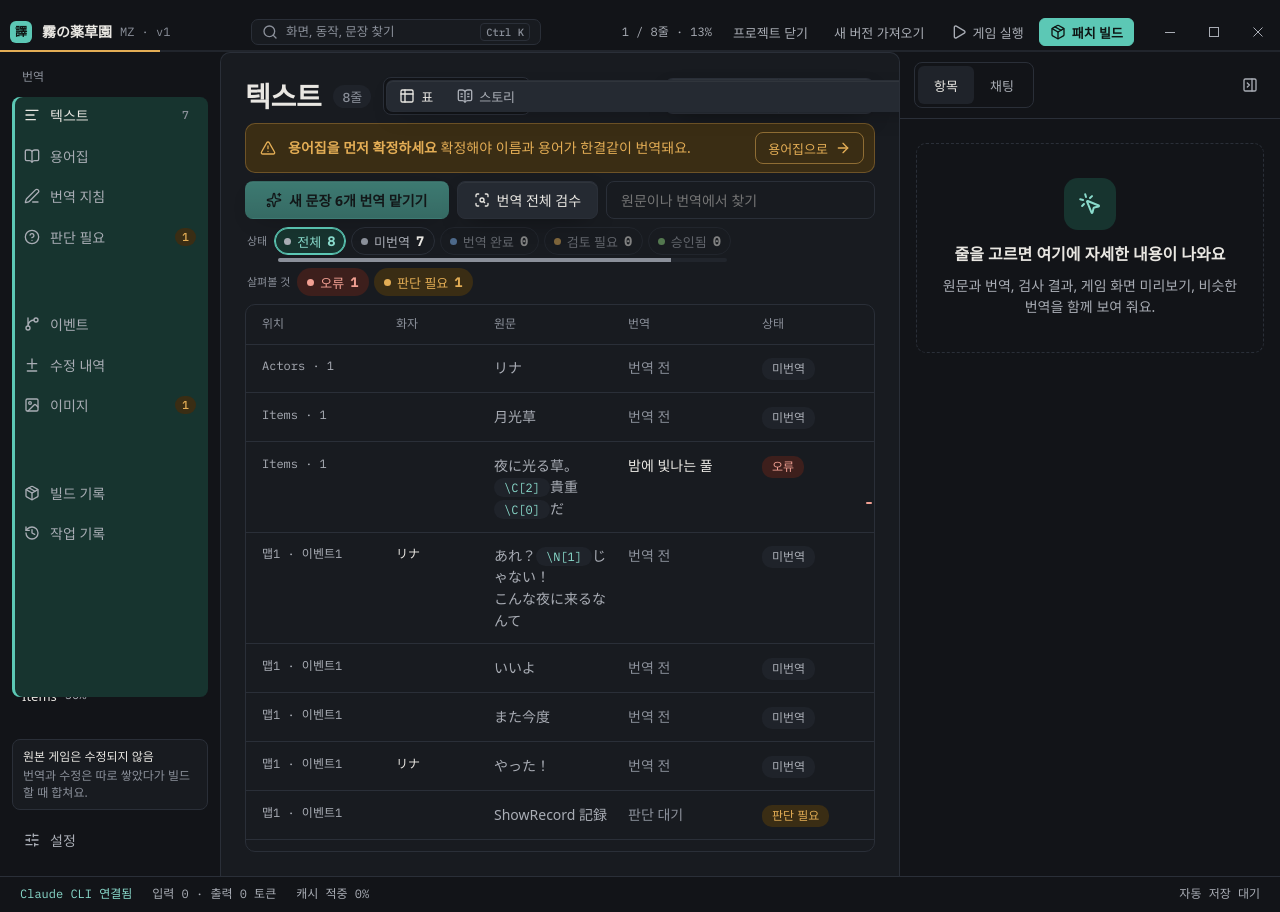
원본 위에서 끌면 그림 좌표로 바꾼 영역이 더해진다
This screenshot has width=1280, height=912.
Check: the text "霧の薬草園" is shown, box [42, 21, 112, 43]
Click the button "이미지 1" at (110, 405), box [12, 387, 208, 424]
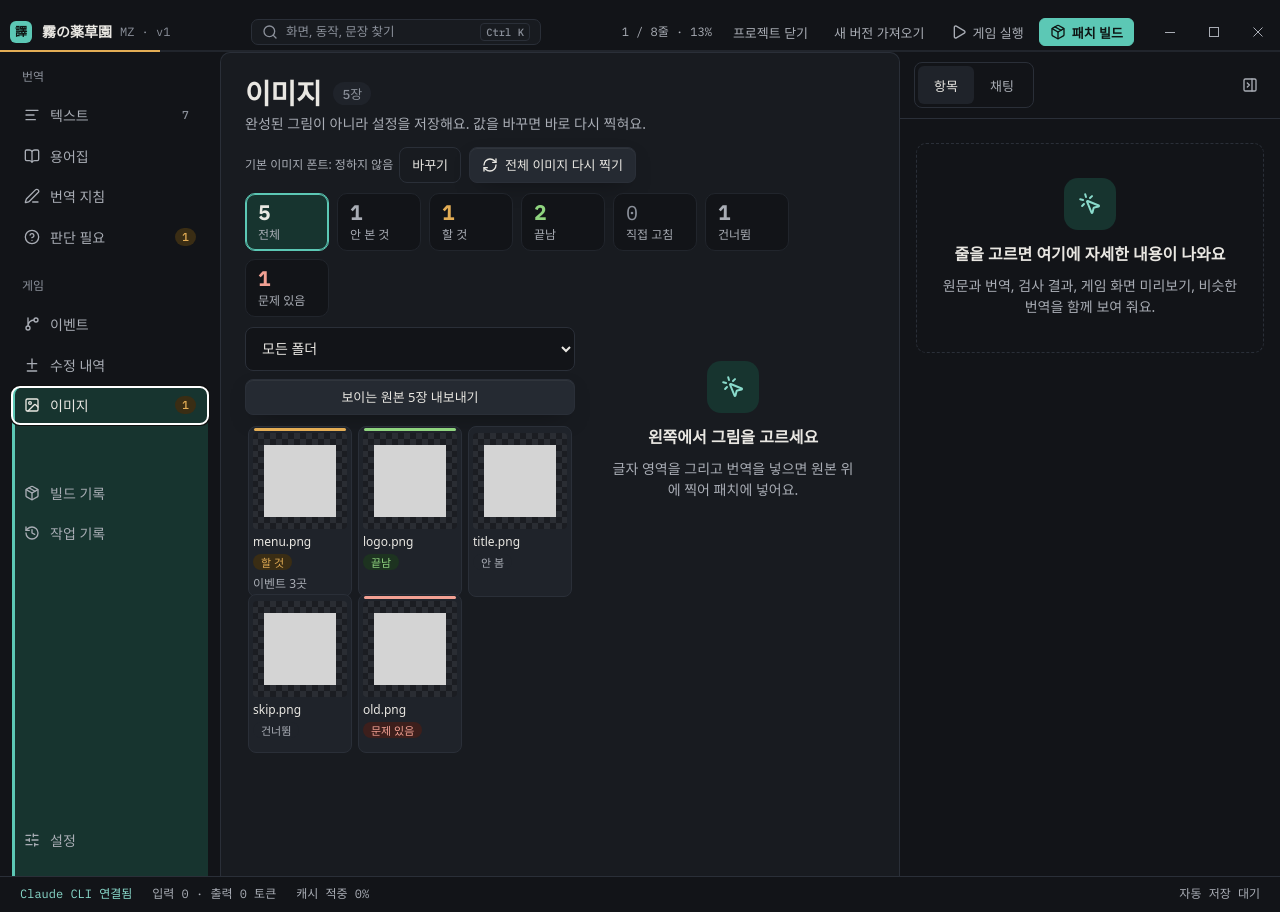
Check: the heading "이미지" is shown, box [245, 77, 322, 109]
Click the button "menu.png 할 것 이벤트 3곳" at (300, 511), box [248, 426, 352, 597]
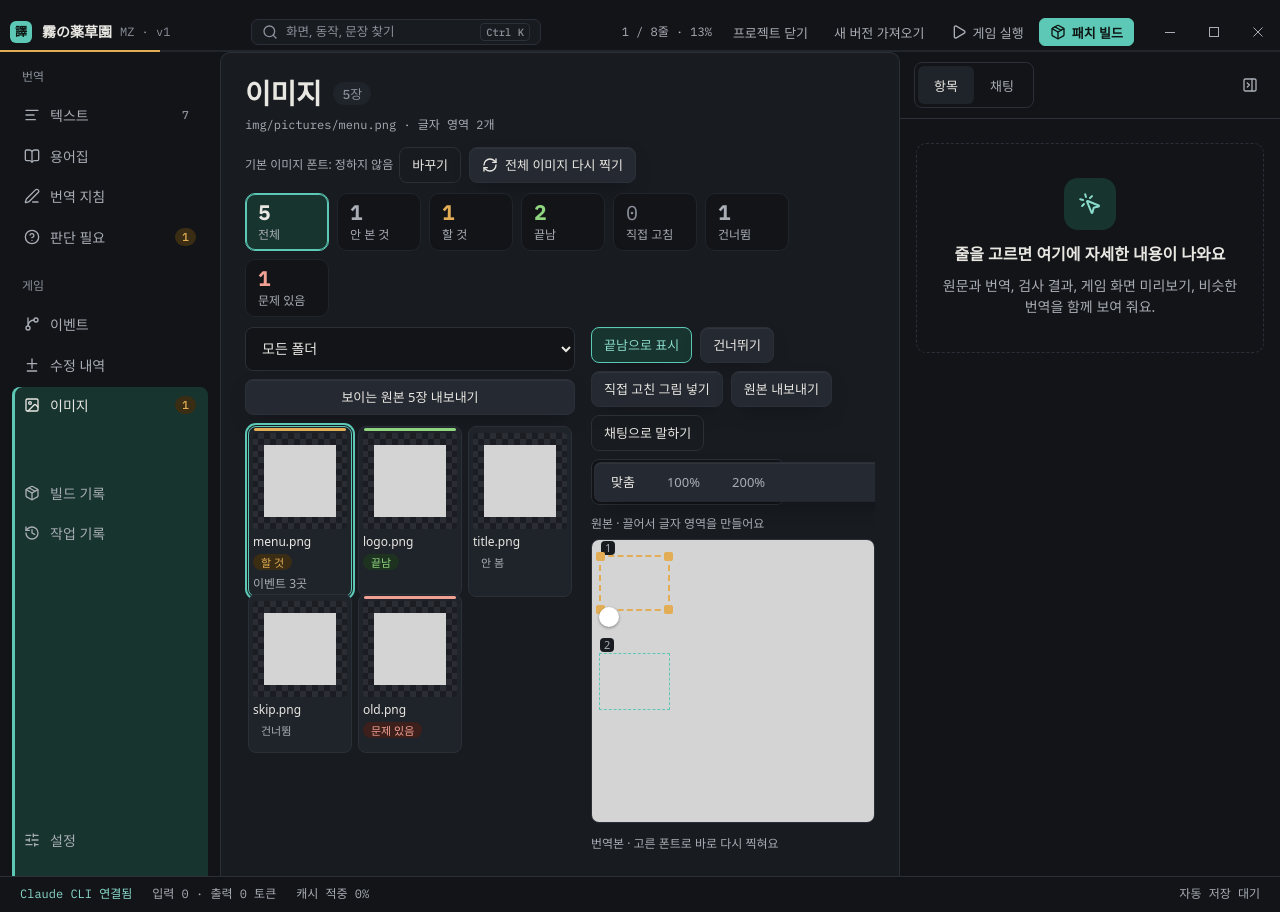
Press the mouse on the element named "원본 위에서 끌어 영역 만들기" at (634, 583), box [599, 555, 670, 710]
(page scrolled)
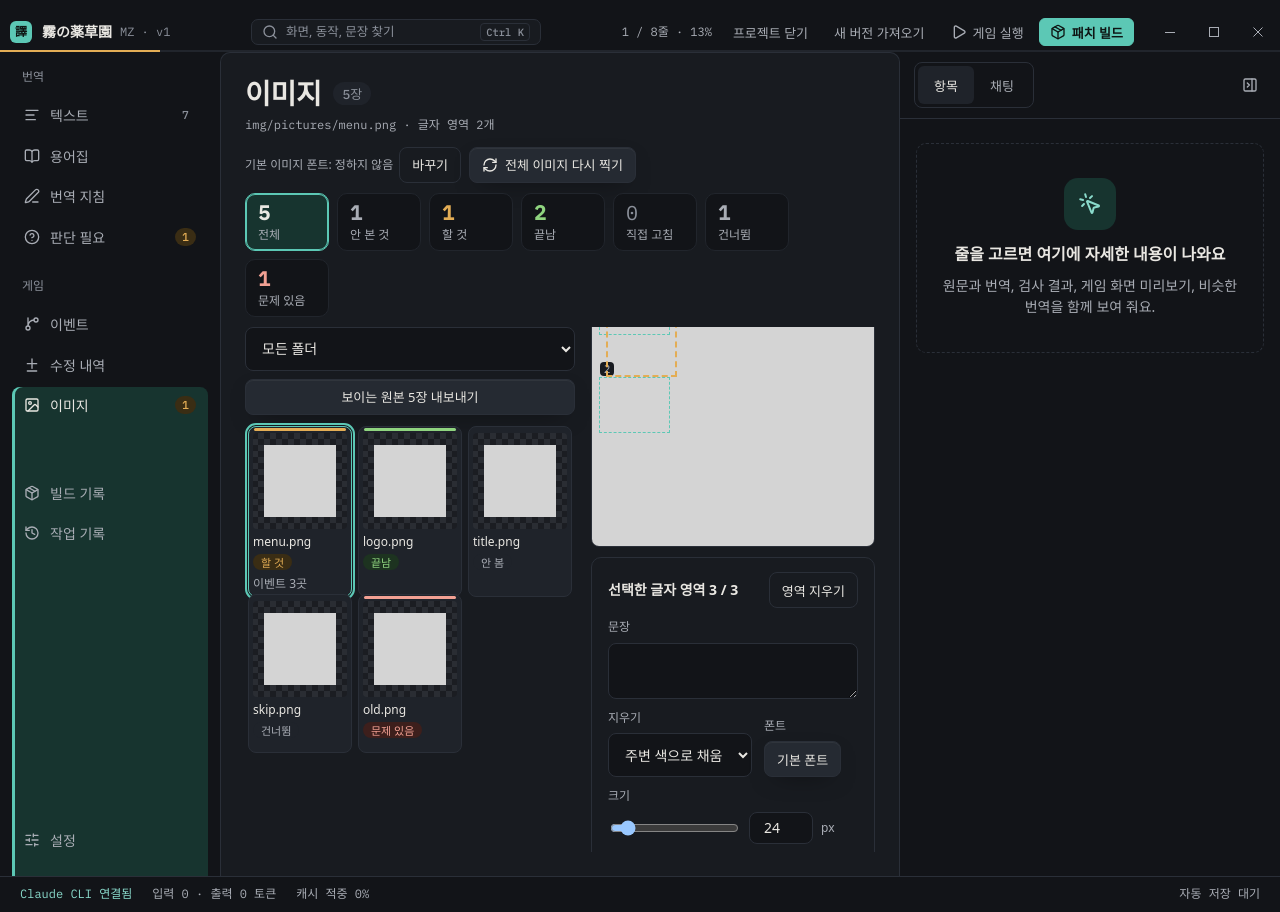
Check: the text "선택한 글자 영역 3 / 3" is shown, box [608, 579, 738, 601]
